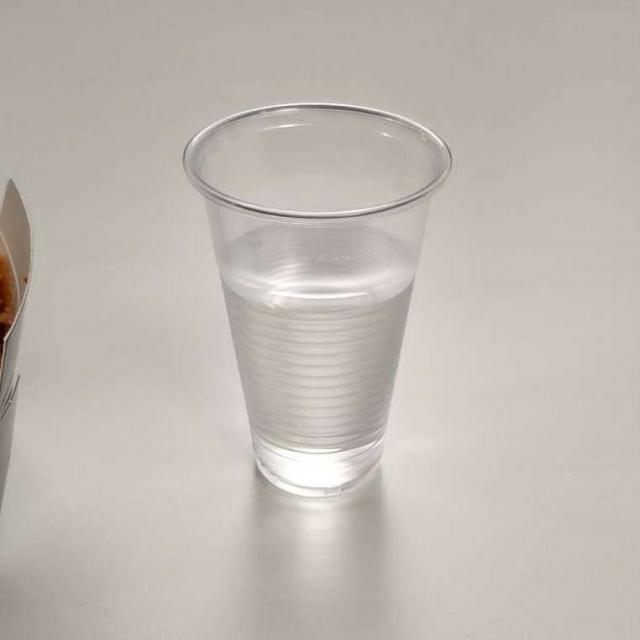water: (220, 204, 412, 491)
